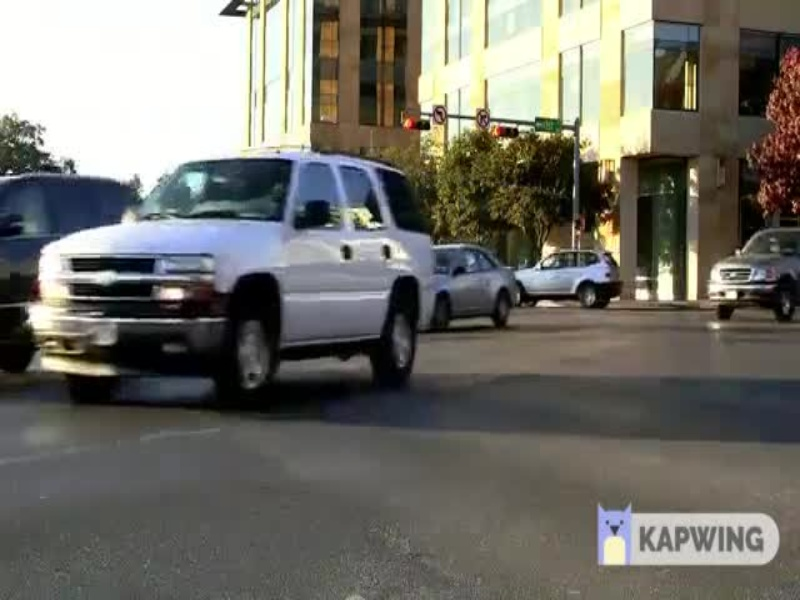car: (30, 143, 426, 408), (521, 245, 625, 322)
